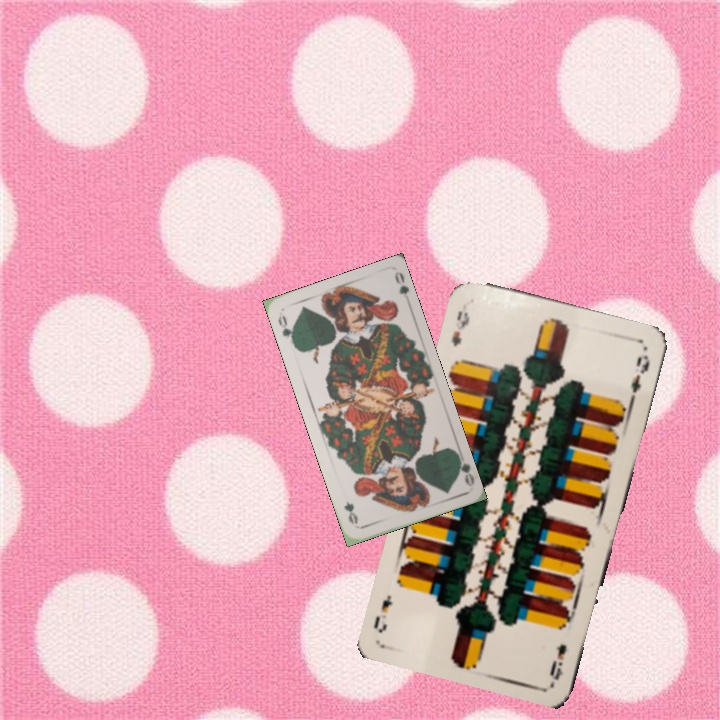E9: (447, 306, 473, 349), (546, 640, 570, 683)
GO: (452, 449, 477, 488), (274, 311, 298, 348)
